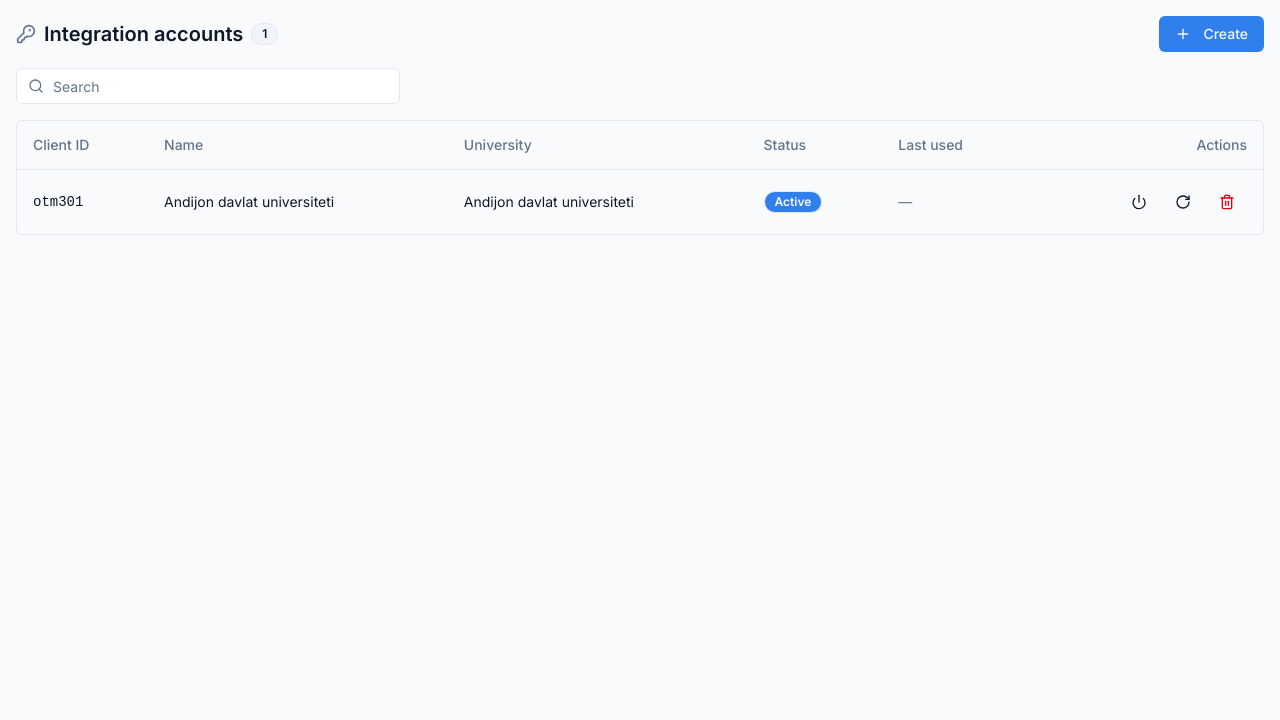
Test: OAuthClientsPage — sir rotatsiyasi › takror kiritish MOS KELMASA tasdiqlab bo‘lmaydi
Click the button titled "Rotate secret" at (1183, 202), box [1163,186,1203,218]
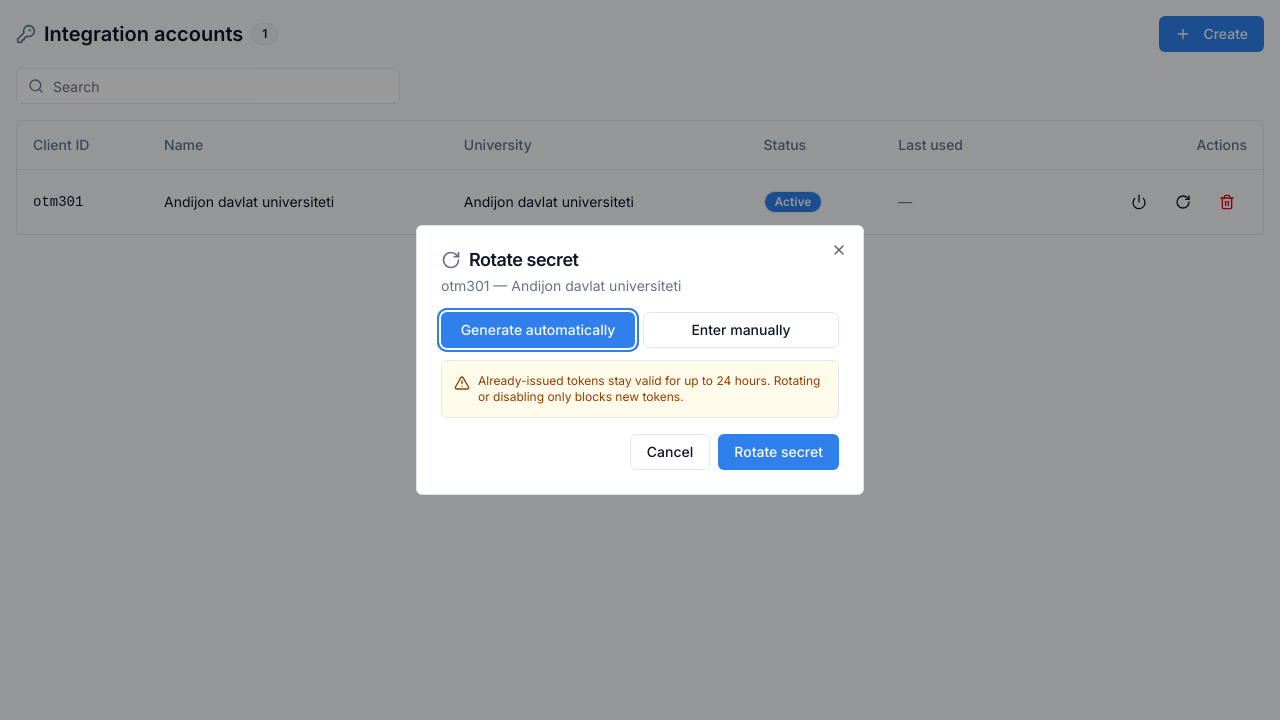
Check: the button "Generate automatically" is shown, box [441,312,635,348]
Click the button "Enter manually" at (741, 330), box [643,312,839,348]
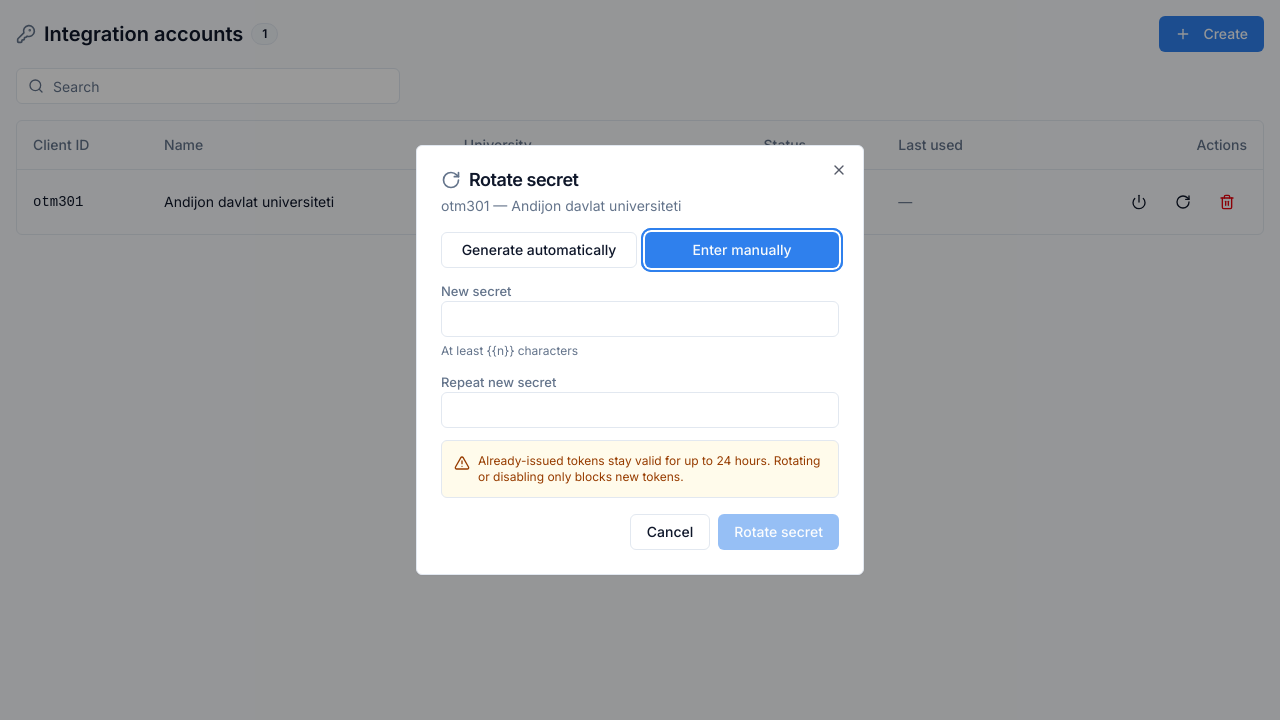
Type "7Kq!zR4$mW9pXv2#" into the field labelled "New secret" at (640, 319), box [441,301,839,337]
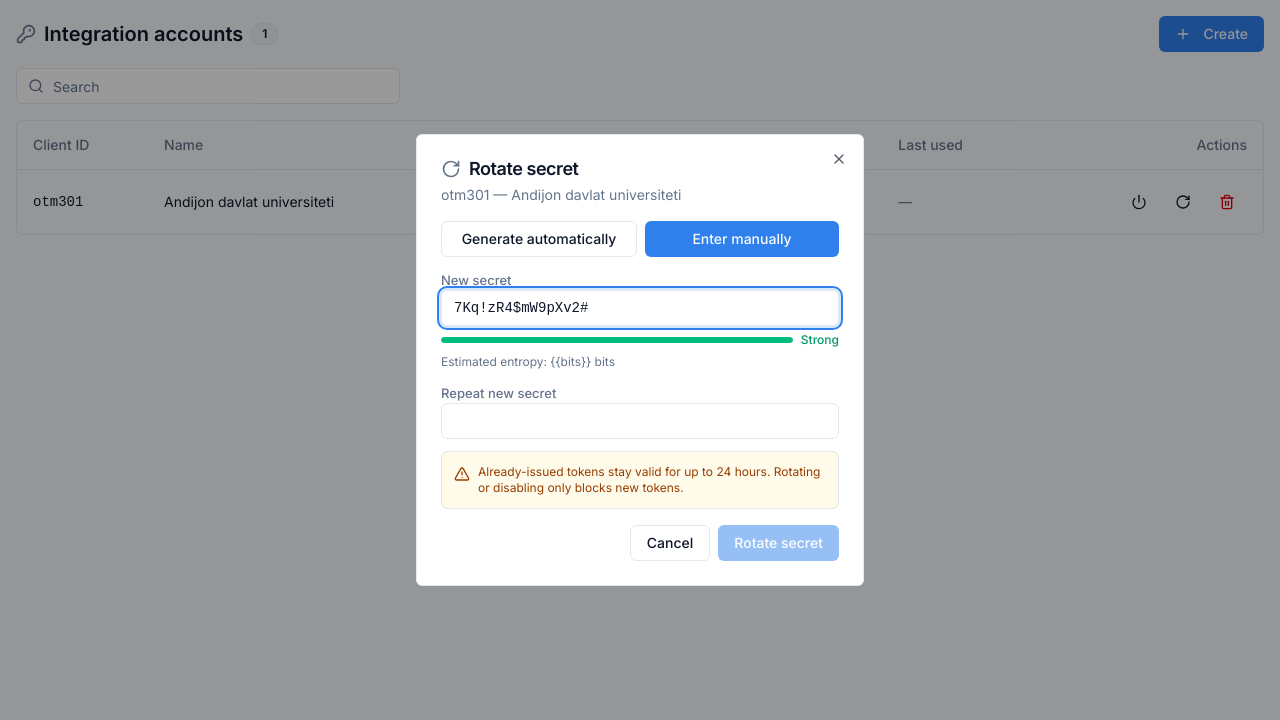
Type "7Kq!zR4$mW9pXv2#BOSHQA" into the field labelled "Repeat new secret" at (640, 421), box [441,403,839,439]
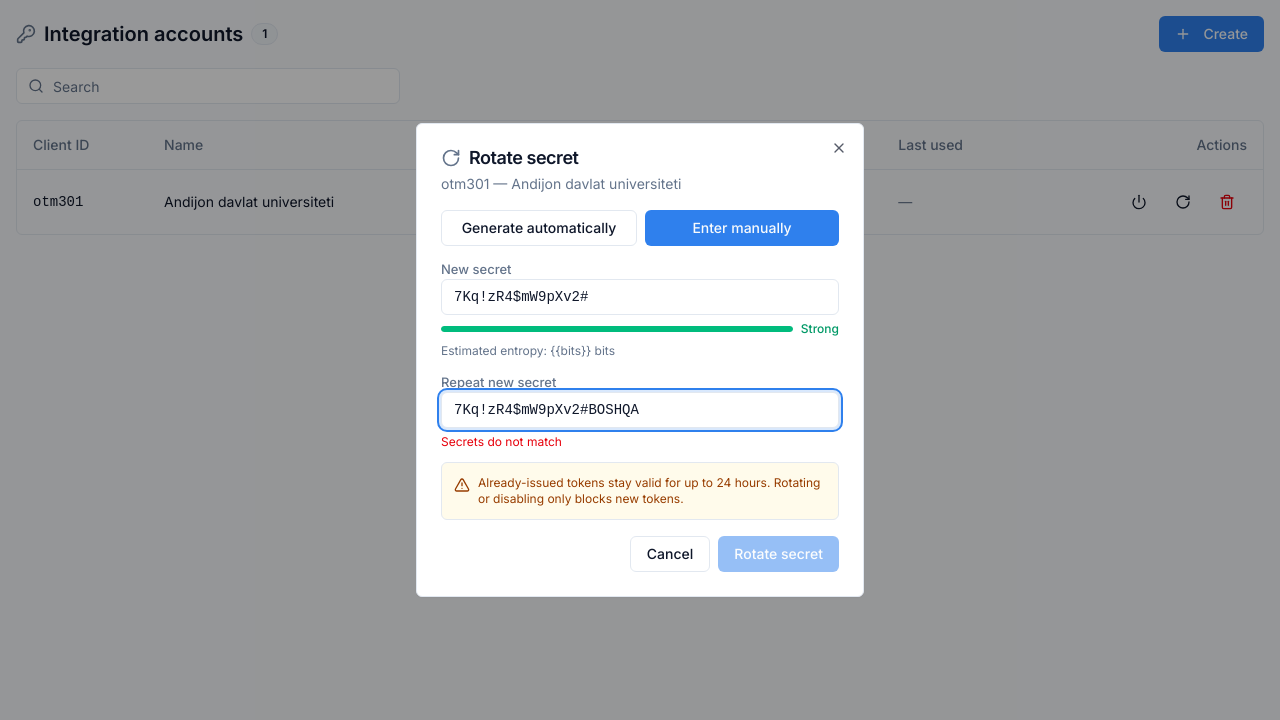
Check: the button "Rotate secret" is disabled, box [718,536,839,572]
Check: the text "Secrets do not match" is shown, box [441,434,562,449]
